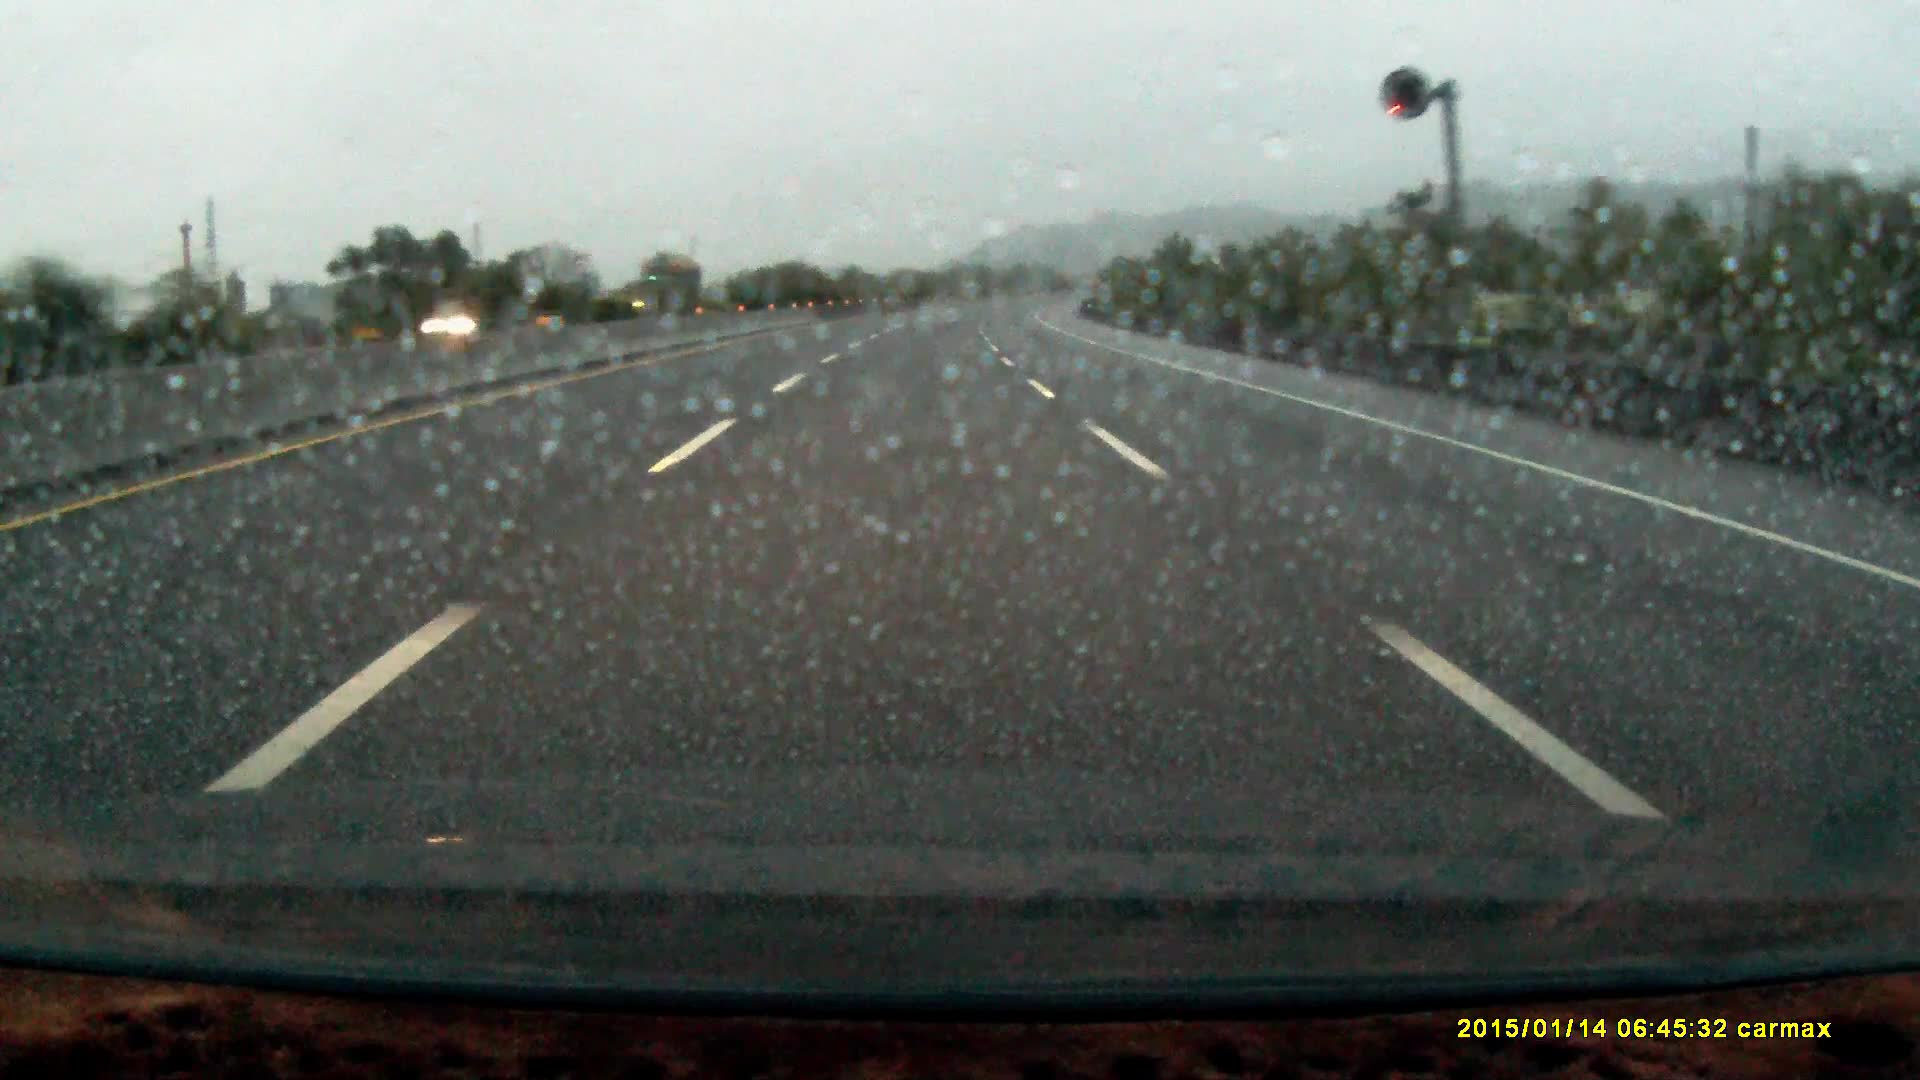vehicle: (629, 258, 707, 320), (419, 302, 514, 335)
